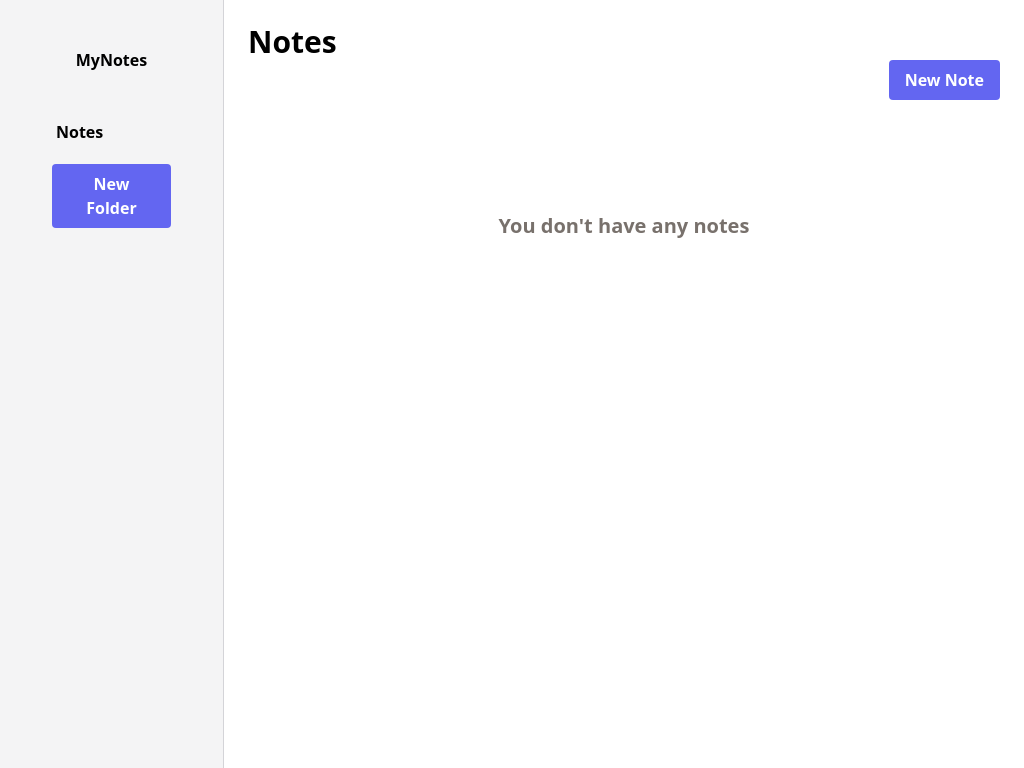
it: when the save button is clicked › should close the modal
The width and height of the screenshot is (1024, 768).
Click the button "New Folder": (112, 196) [52, 164, 171, 228]
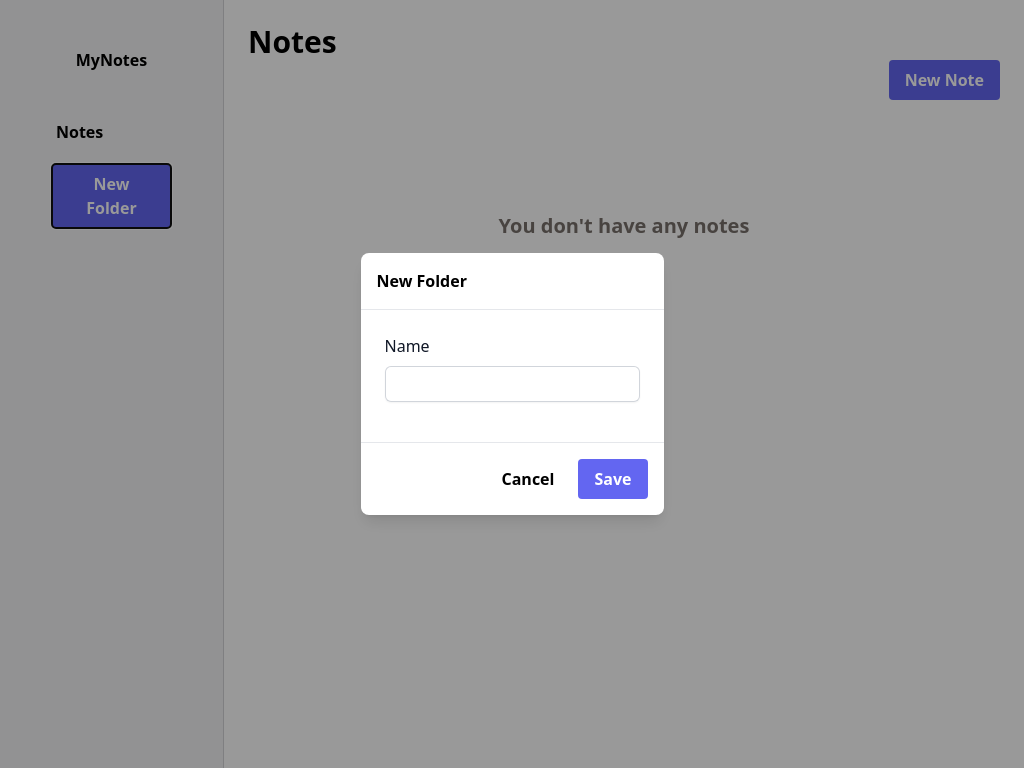
In the field labelled "Name": (512, 384) [384, 366, 640, 402], type "Todo"
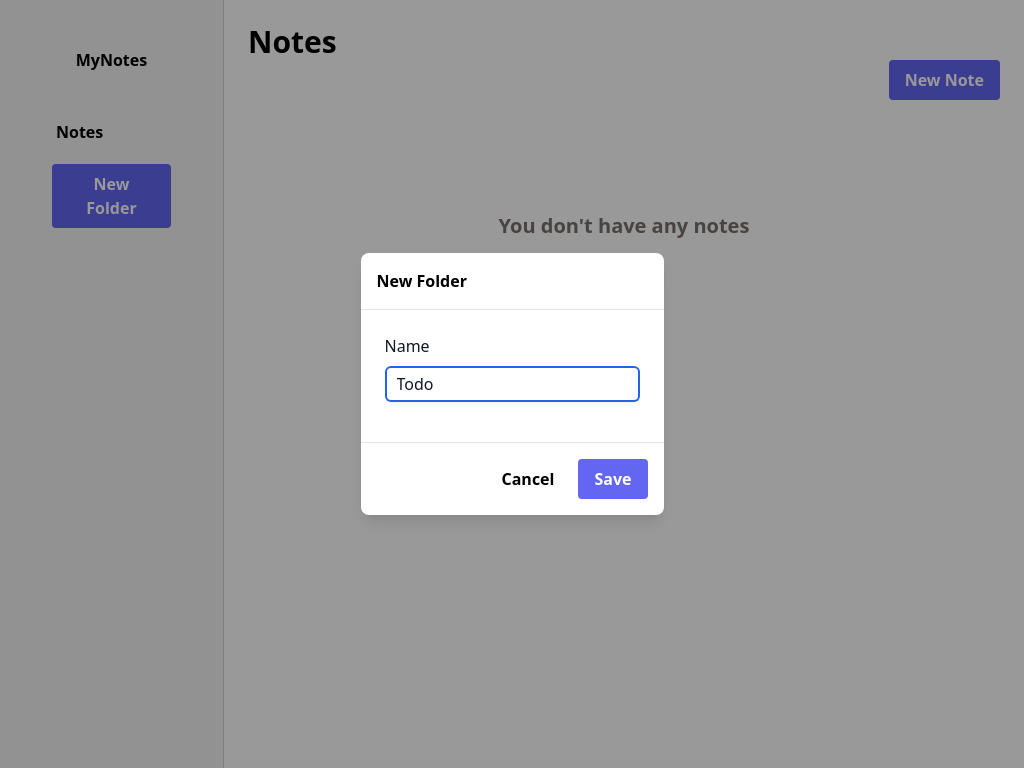
Click the button "Save": (613, 479) [578, 459, 648, 499]
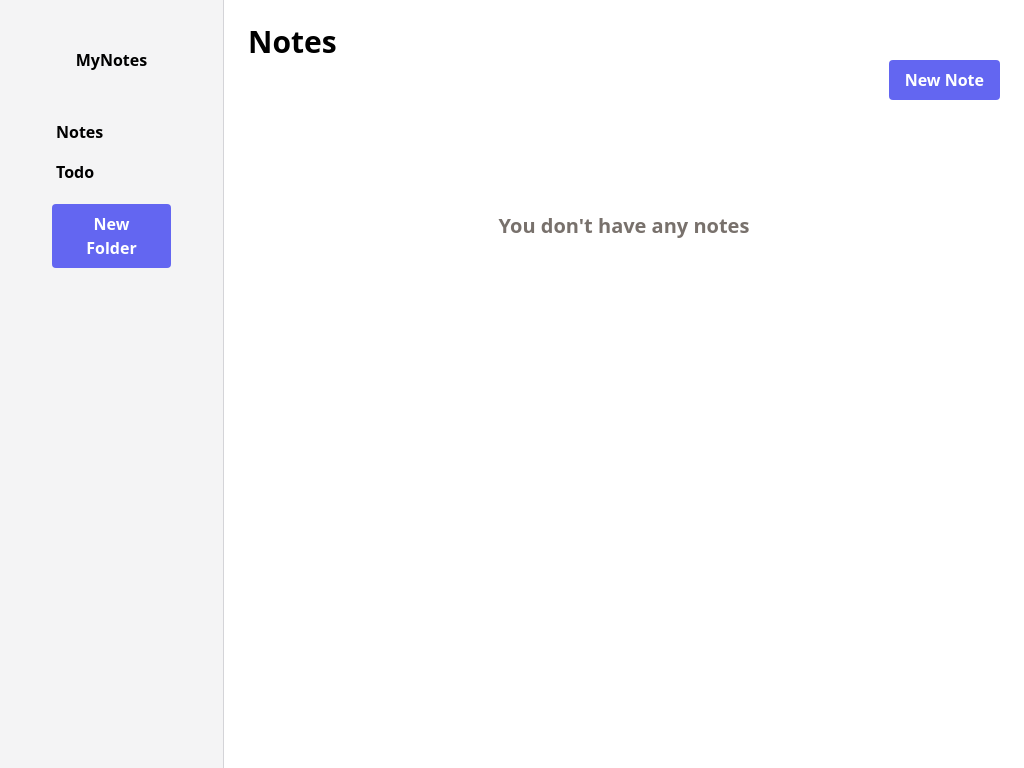
Now the label "Name" is gone
